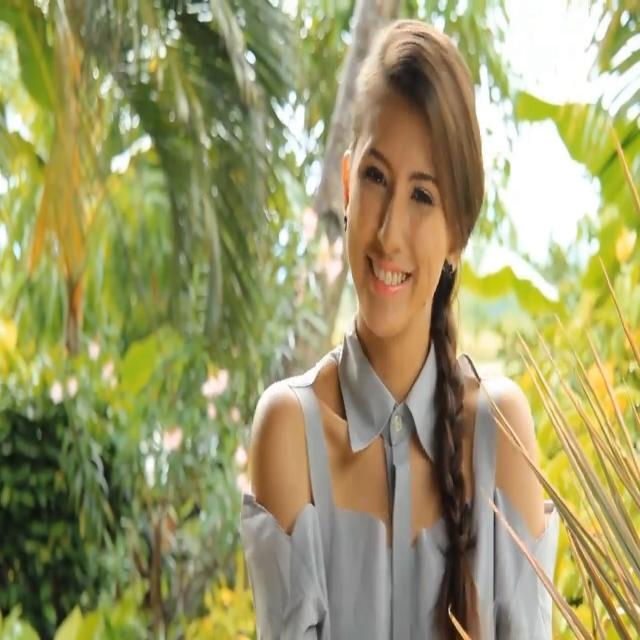shirt: (240, 309, 560, 640)
